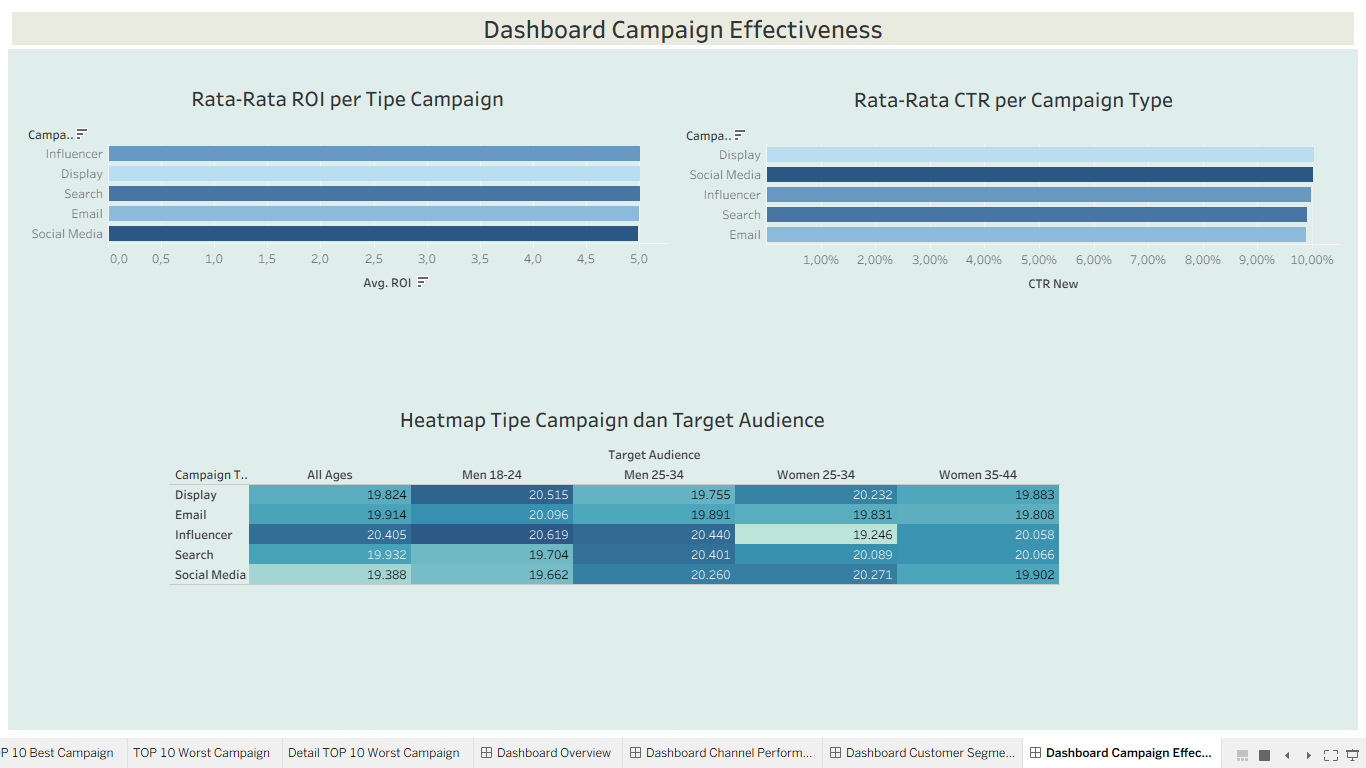

What the dashboard file says about the page in this screenshot:
{"tool":"tableau","page":{"name":"Dashboard Campaign Effectiveness","canvas":[1000,1000],"units":"permille","ordinal":0},"visuals":[{"type":"title","box":[5.9,10.8,988.3,55.6]},{"type":"worksheet","title":"Rata-Rata ROI per Tipe Campaign","mark":"Automatic","rows":["Campaign_Type"],"cols":["ROI"],"box":[20.8,108.1,467.5,415.5]},{"type":"worksheet","title":"Rata-Rata CTR per Campaign Type","mark":"Automatic","rows":["Campaign_Type"],"cols":["Calculation_1684191561715712"],"box":[502.2,109.8,479.7,380.1]},{"type":"worksheet","title":"Heatmap Tipe Campaign dan Target Audience ","mark":"Automatic","rows":["Campaign_Type"],"cols":["Target_Audience"],"box":[123.8,543.9,780.1,361.5]}]}

Visuals, with their boxes on the dashboard's canvas, which has no fixed pixel size, in thousandths of its width and height (x1, y1, x2, y2). These are canvas units, not pixel positions in the 1366x768 screenshot, which may show the page scaled, cropped or inside an application window:
title: 6 11 994 66
"Rata-Rata ROI per Tipe Campaign" worksheet: 21 108 488 524
"Rata-Rata CTR per Campaign Type" worksheet: 502 110 982 490
"Heatmap Tipe Campaign dan Target Audience " worksheet: 124 544 904 905
